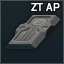Glock ZEV Tech sight mount cap: (0, 0, 64, 64)
